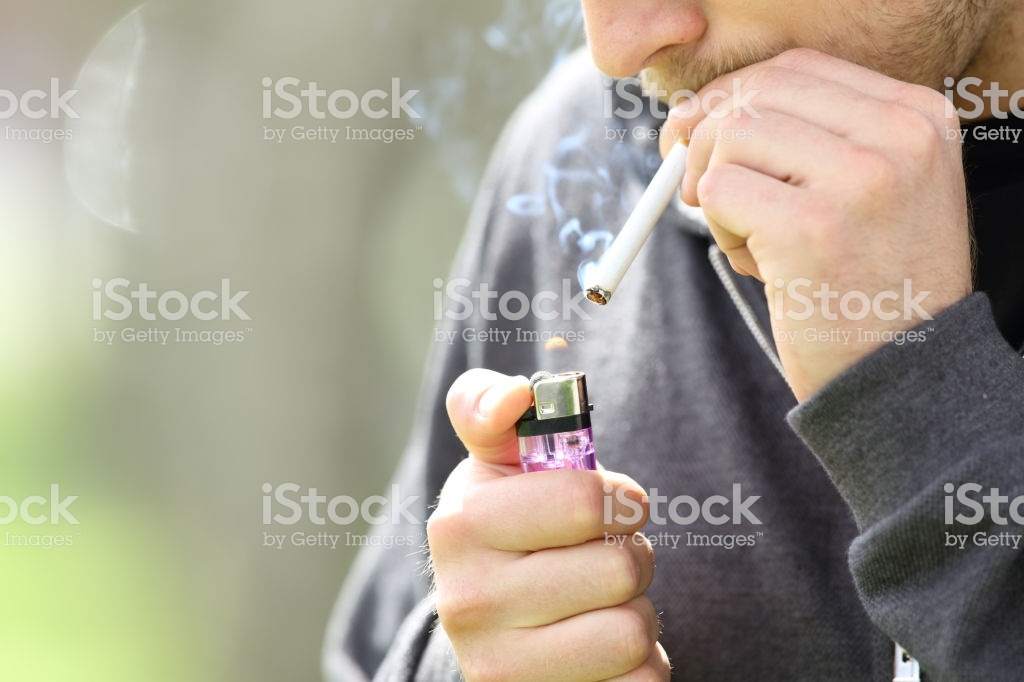sigaretta: (578, 118, 711, 304)
